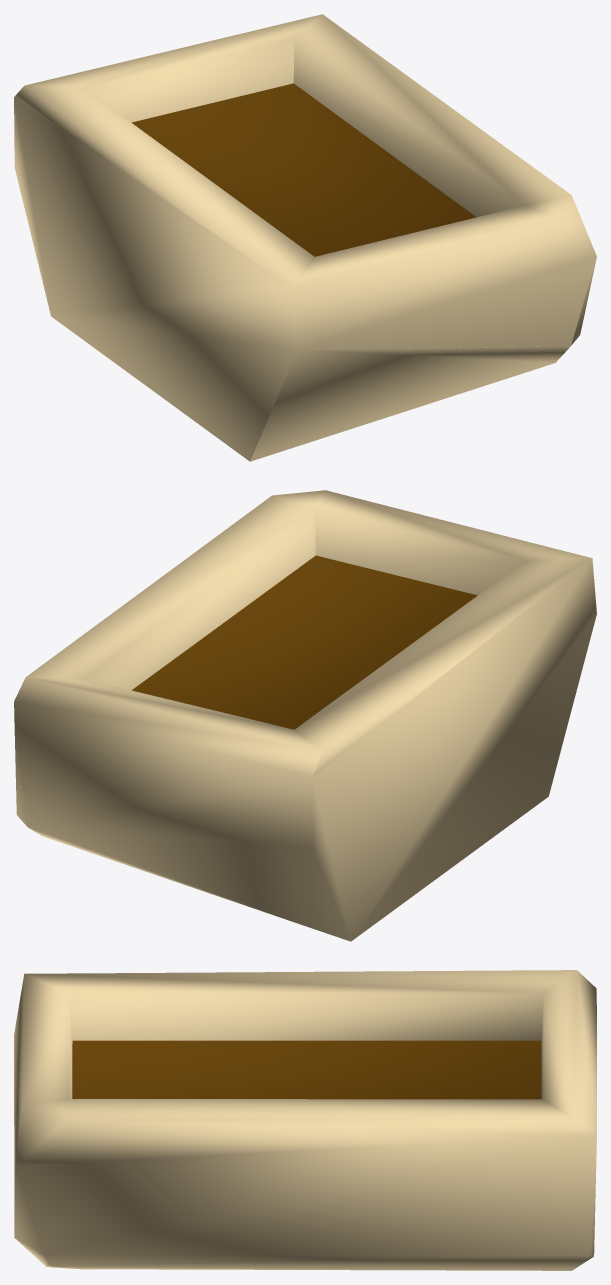
The model's file is Module_Window_Planter_Short_01_LOD02.fbx.
3 views of the same model, one above another, from view 1: azimuth 30°, elevation 25°; view 2: azimuth 150°, elevation 25°; view 3: azimuth 270°, elevation 25° (orthographic). The views are drawn at different scales.
Visible parts, largest first — view 1: Module_Window_Planter_Short_01_LOD02_Geometry; view 2: Module_Window_Planter_Short_01_LOD02_Geometry; view 3: Module_Window_Planter_Short_01_LOD02_Geometry.
Part boxes in pixels (box(x1,y1,x2,y2)): Module_Window_Planter_Short_01_LOD02_Geometry: box(14, 14, 596, 461); Module_Window_Planter_Short_01_LOD02_Geometry: box(14, 490, 596, 941); Module_Window_Planter_Short_01_LOD02_Geometry: box(14, 970, 596, 1270).
Bounding box in the file's own units: 0.6504 × 0.4355 × 1.06.
